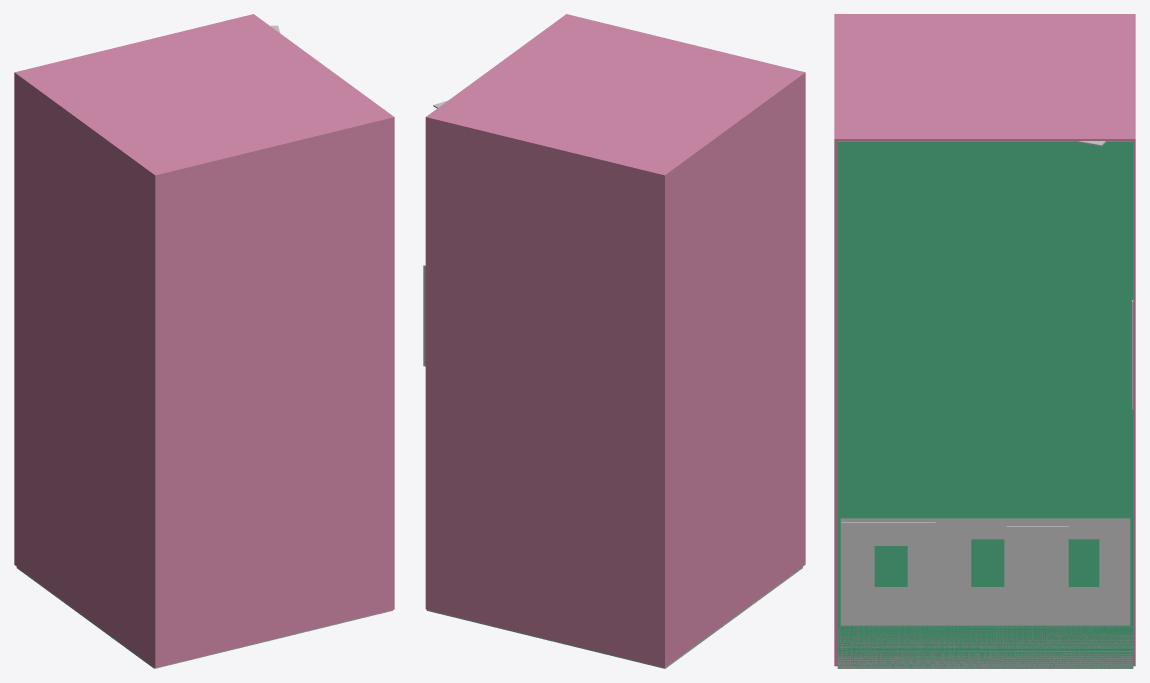
File: ind_bld_tin_01_tower_a.dae
The picture shows the model from 3 angles, left to right: view 1: azimuth 30°, elevation 25°; view 2: azimuth 150°, elevation 25°; view 3: azimuth 270°, elevation 25°; orthographic projection. The views are drawn at different scales.
Visible parts, largest first — view 1: Untitled, ind_bld_a500; view 2: Untitled, ind_bld_a500; view 3: Colmesh-1, Untitled, ind_bld_a500, ind_bld_a70.
Boxes of the visible parts, x1,y1,x2,y2 form: Untitled: (14,14,394,667); ind_bld_a500: (16,25,392,668); Untitled: (425,14,805,667); ind_bld_a500: (423,100,802,668); Colmesh-1: (837,141,1133,668); Untitled: (834,14,1135,666); ind_bld_a500: (837,141,1133,668); ind_bld_a70: (840,302,1133,625).
Size of the model in its own units: 6.4 by 6.31 by 12.23.
